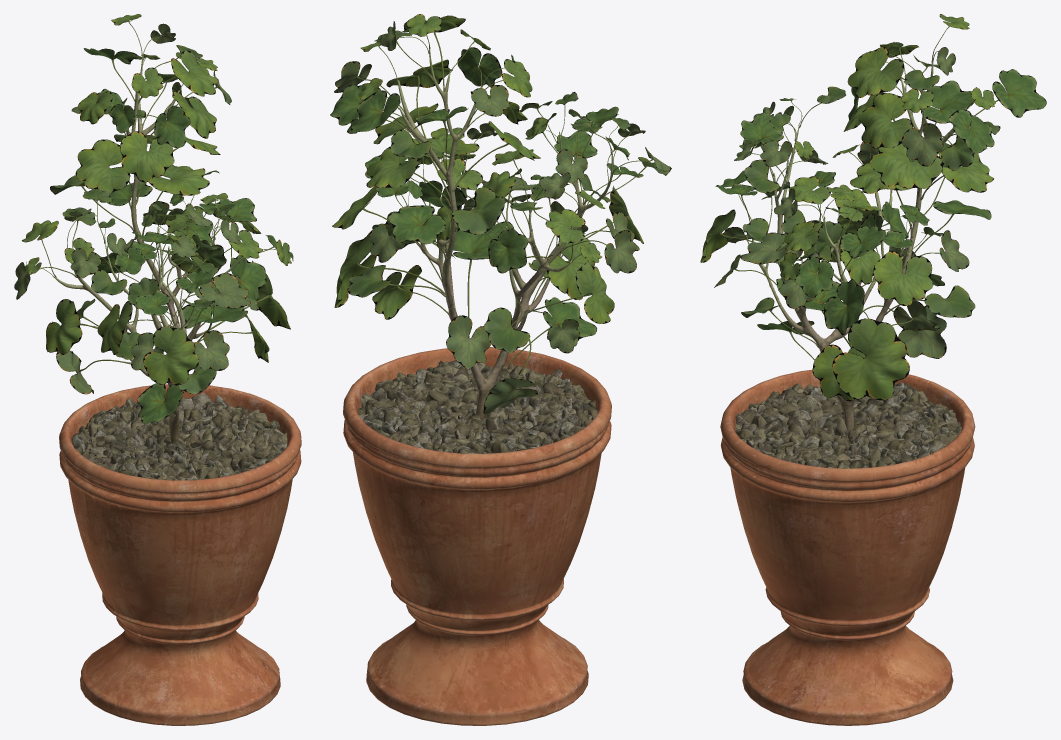
File: potted_plant_01.glb
3 views of the same model, side by side, from view 1: azimuth 30°, elevation 25°; view 2: azimuth 150°, elevation 25°; view 3: azimuth 270°, elevation 25° (orthographic). The views are drawn at different scales.
Visible parts, largest first — view 1: potted_plant_01_stem, potted_plant_01_leaves; view 2: potted_plant_01_stem, potted_plant_01_leaves; view 3: potted_plant_01_stem, potted_plant_01_leaves.
Part boxes in pixels (<box>): potted_plant_01_stem: <box>54,54,301,725</box>; potted_plant_01_leaves: <box>14,14,293,423</box>; potted_plant_01_stem: <box>343,49,612,725</box>; potted_plant_01_leaves: <box>330,14,671,414</box>; potted_plant_01_stem: <box>720,55,975,725</box>; potted_plant_01_leaves: <box>700,14,1046,401</box>.
Bounding box in the file's own units: 0.5874 × 1.34 × 0.6336.
2 materials, 2 textured.
